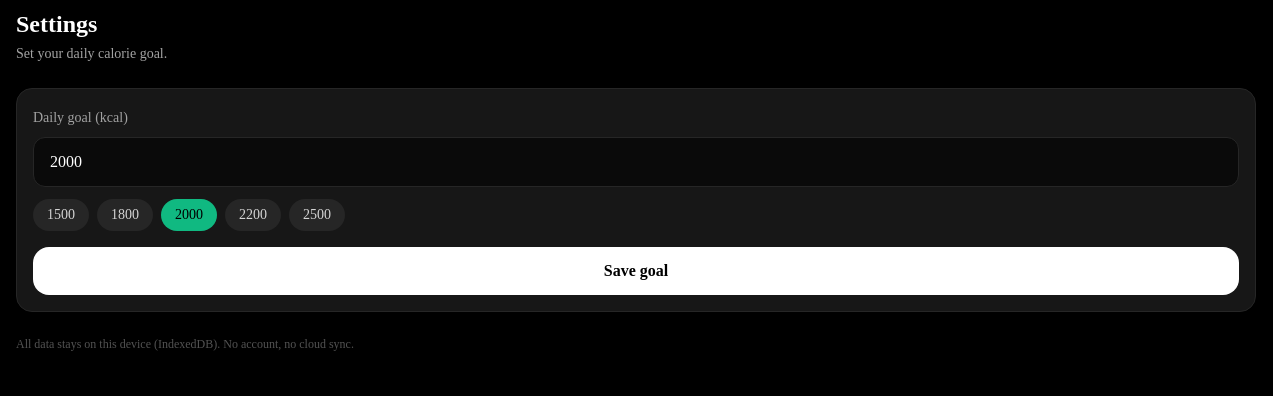
it: SettingsScreen — BUG-10 goal validation, bounds, comma/space parsing › shows an inline error and does not save for invalid input 0
The image size is (1273, 396).
Replace the text in the field labelled "Daily goal (kcal)" with "0" at (636, 162), box x1=33 y1=137 x2=1239 y2=187
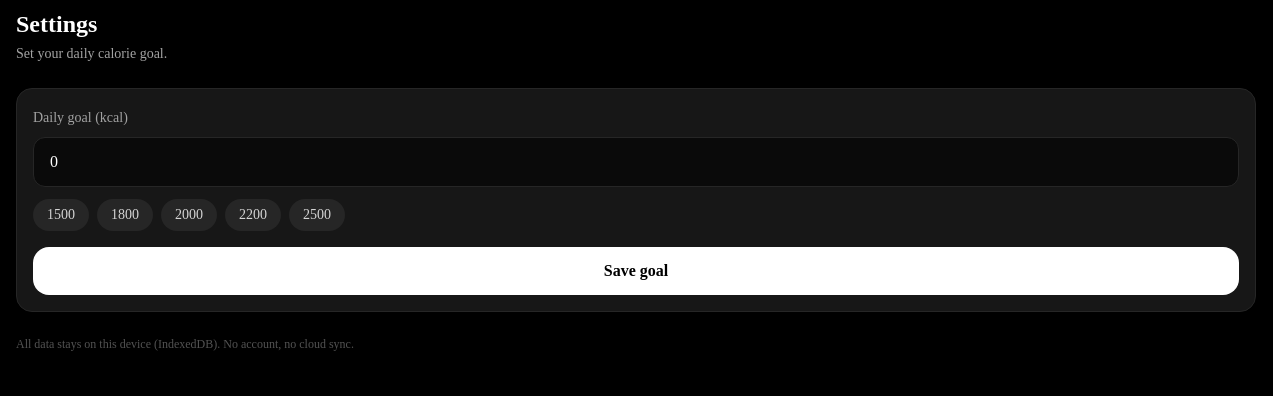
Click the button "Save goal".
click(636, 271)  # box x1=33 y1=247 x2=1239 y2=295
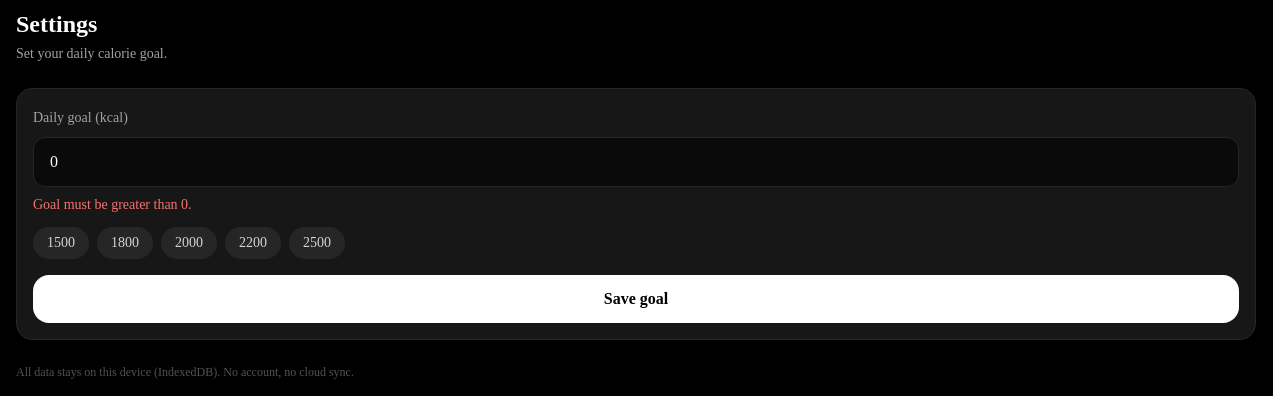
Expected: the message "Goal must be greater than 0." is shown, x1=33 y1=197 x2=192 y2=212
